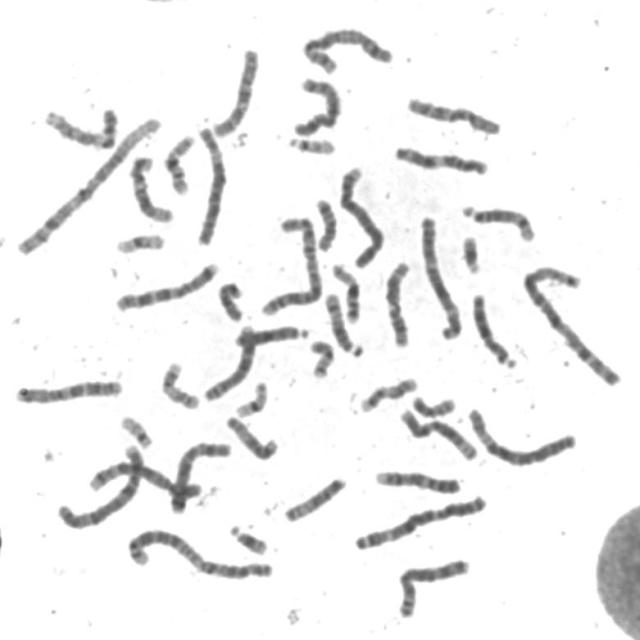A1: (10, 109, 165, 257), (517, 259, 625, 389)
A2: (122, 522, 276, 582), (256, 211, 324, 318)
A3: (350, 488, 491, 552), (414, 210, 466, 341)
B4: (51, 440, 146, 532), (334, 161, 387, 270)
B5: (83, 457, 204, 502), (297, 23, 396, 76)
C10: (208, 42, 262, 139), (402, 91, 502, 138)
C11: (389, 140, 491, 178), (380, 256, 415, 350)
C12: (395, 404, 480, 462), (126, 150, 176, 224)
C6: (462, 402, 580, 469), (189, 120, 229, 248)
C7: (110, 256, 221, 314), (10, 373, 124, 405)
C8: (393, 552, 472, 620), (198, 319, 258, 404)
C9: (39, 100, 120, 151), (370, 464, 463, 496)
D13: (466, 288, 519, 370), (231, 320, 311, 349)
D14: (457, 199, 538, 244), (320, 286, 366, 358)
D15: (279, 471, 348, 524), (221, 410, 281, 462)
E16: (158, 129, 197, 196), (326, 257, 363, 325)
E17: (355, 372, 419, 415), (156, 356, 202, 411)
E18: (310, 192, 339, 252), (213, 276, 247, 323)
F19: (230, 376, 270, 419), (111, 227, 167, 256)
F20: (407, 389, 459, 419), (305, 335, 336, 380)
G21: (224, 518, 270, 558), (458, 230, 484, 276)
G22: (116, 409, 154, 450), (282, 132, 338, 156)
X: (164, 435, 233, 516), (289, 72, 344, 138)
